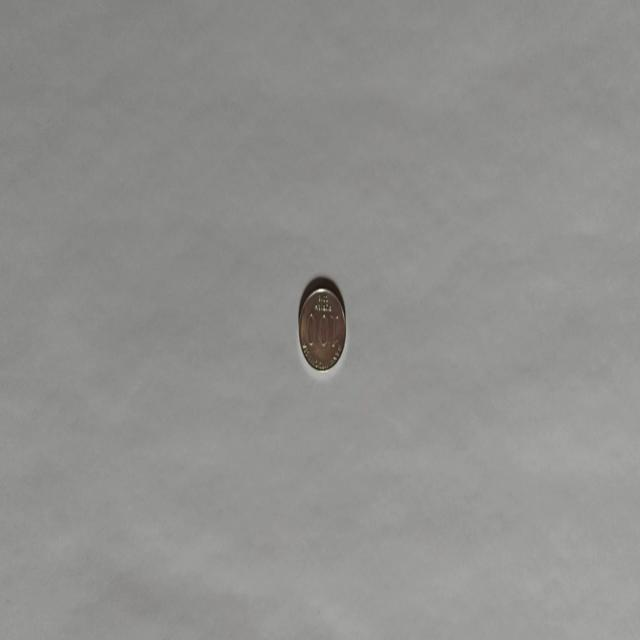seratus rupiah: (298, 277, 347, 373)
